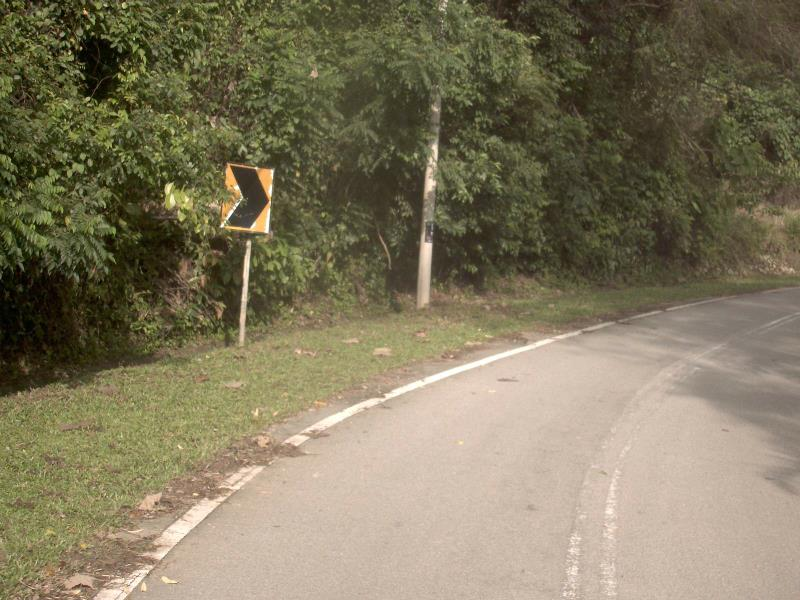traffic_sign: (210, 153, 283, 246)
